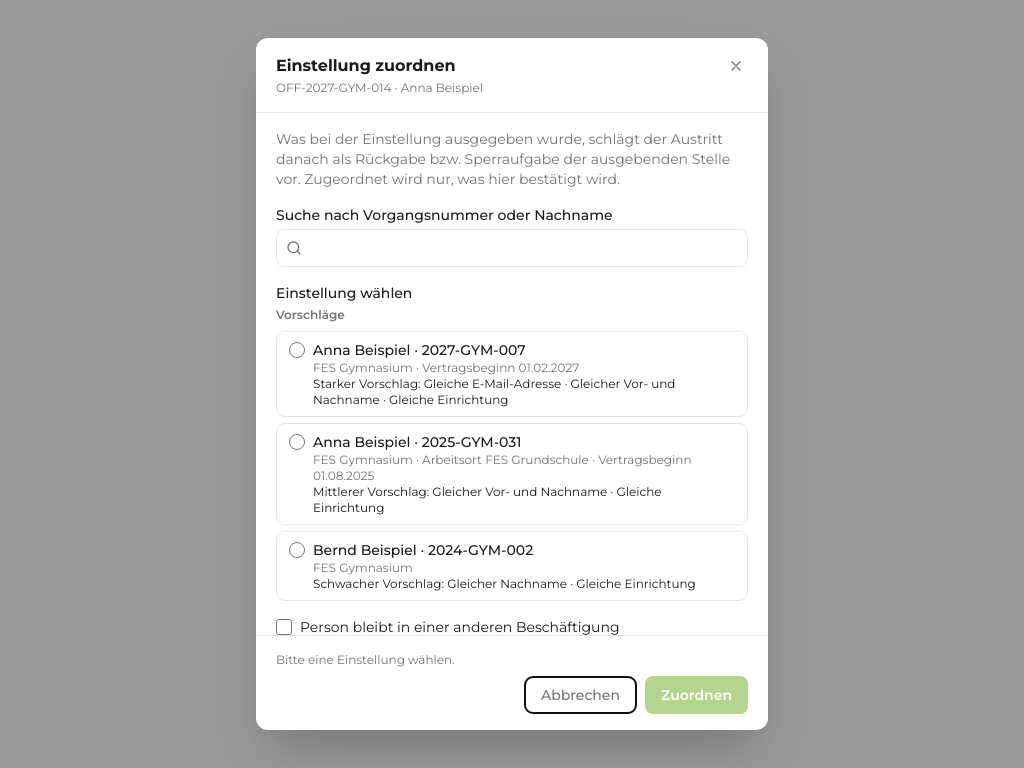
Test case: Merker und Vorschau › Vorschau: Rückgaben, Sperraufgaben, Hinweise und andere Austritte; Arbeitsort-Satz
What coordinates should you click on to do the following:
click the 1st radio button
I would click on:
 (297, 350)
Its box is [289, 342, 305, 358].
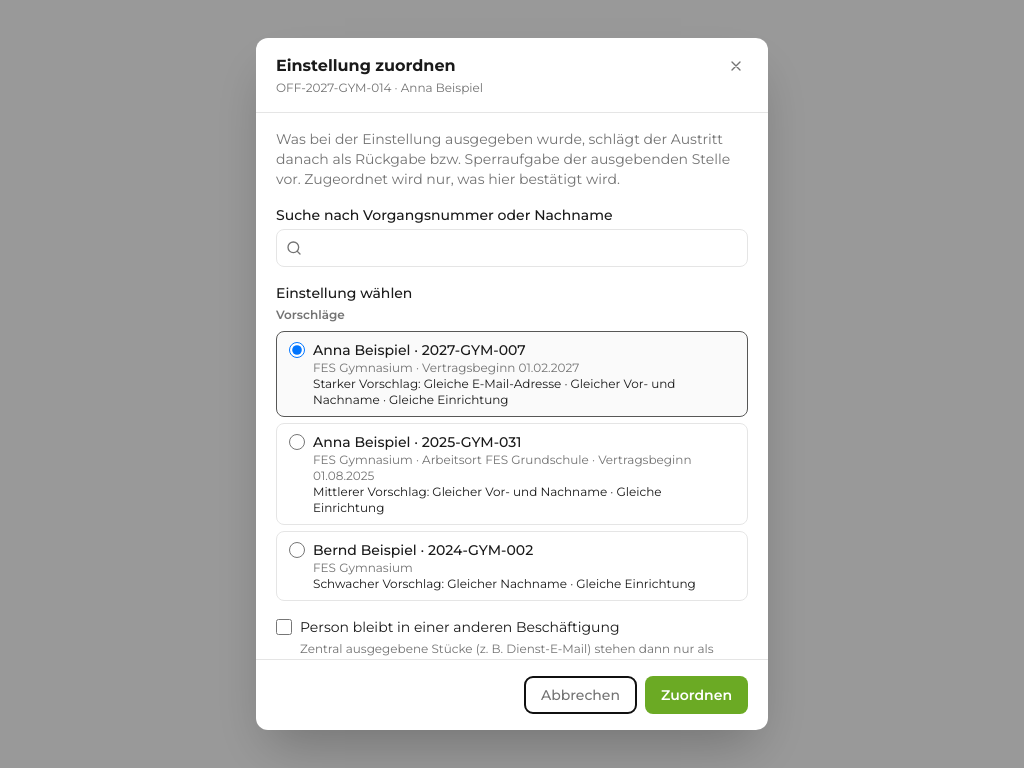
Expected: the button "Zuordnen" is enabled, [645, 676, 748, 714]
